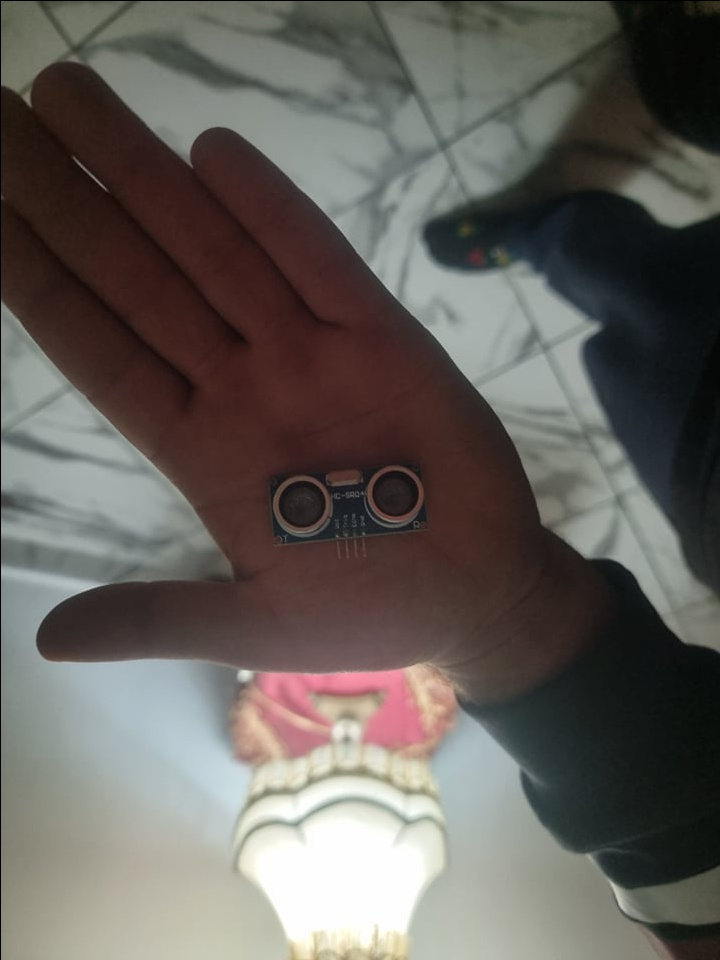SENSOR: (261, 458, 433, 545)
